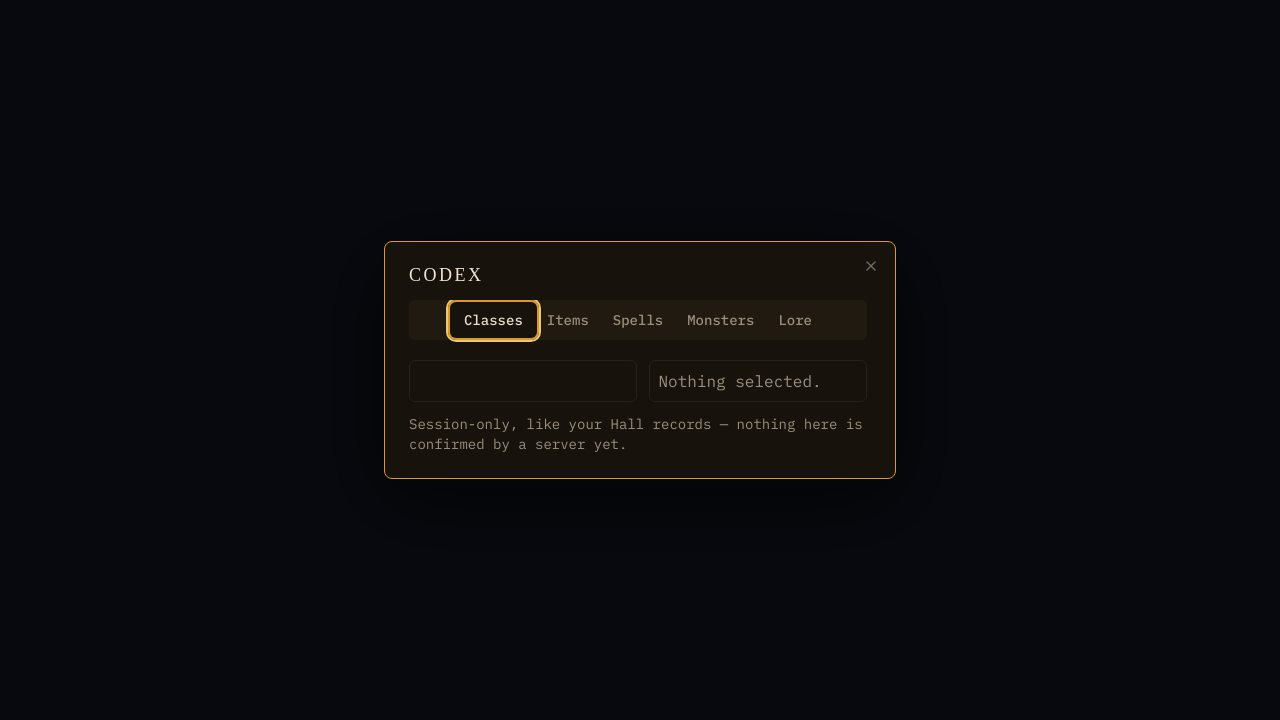
OverlayHost › sources the codex body from the sightings prop when no session is present (title screen)
Click the tab "Monsters": [721, 320] box [675,304,766,336]
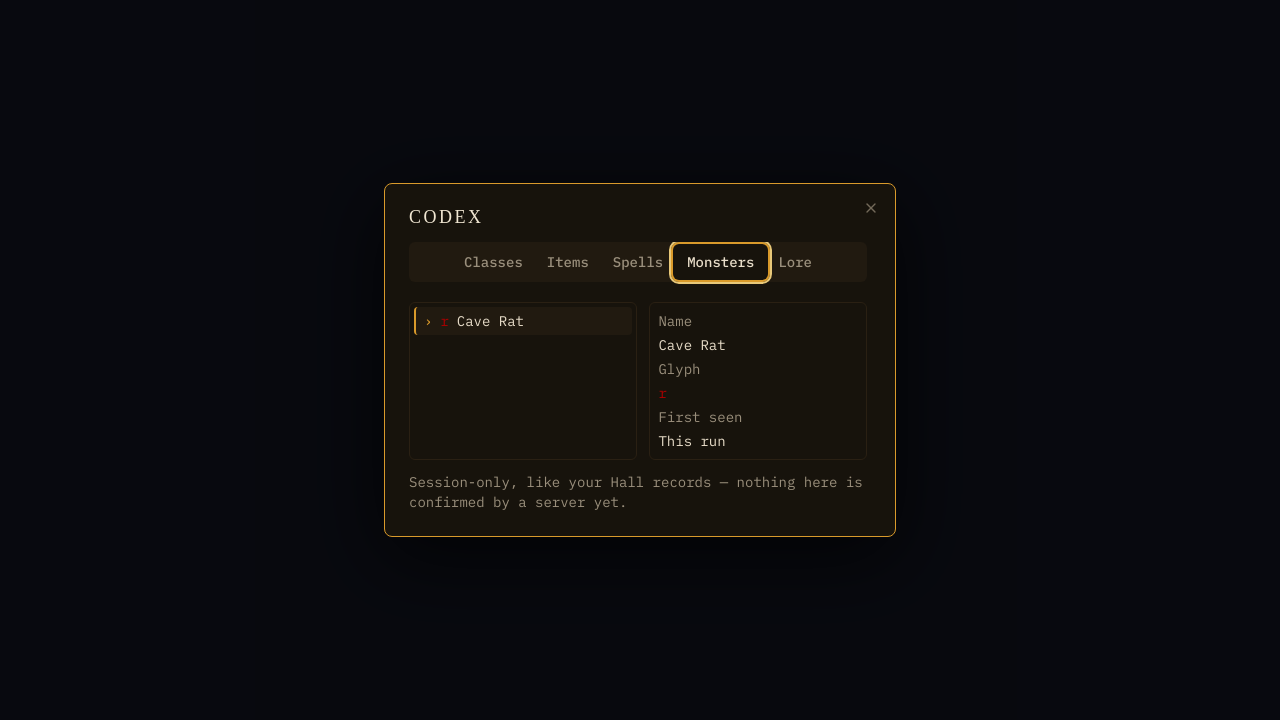
Expected: the option "› r Cave Rat" is shown, [414,307,632,335]
